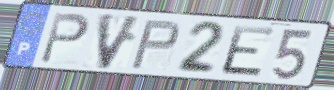2: (176, 20, 227, 76)
5: (269, 27, 317, 82)
E: (219, 24, 278, 79)
P: (37, 11, 91, 66), (129, 19, 183, 71)
V: (95, 11, 145, 72)
